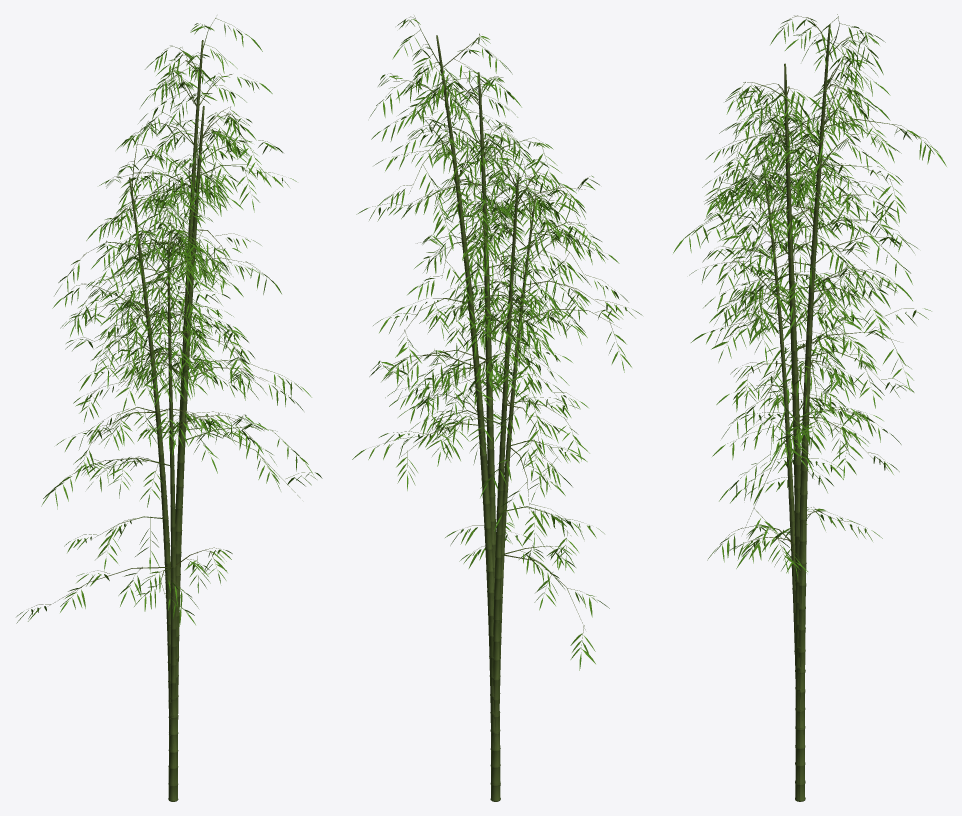
Rendered from bamboo.glb.
3 views of the same model, side by side, from view 1: azimuth 30°, elevation 25°; view 2: azimuth 150°, elevation 25°; view 3: azimuth 270°, elevation 25° (orthographic). The views are drawn at different scales.
Parts seen in each view (by area): view 1: Leaves_1, Leaves_3, Leaves_0, Leaves_2, Stalk_0, Stalk_1, Stalk_3, Stalk_2; view 2: Leaves_1, Leaves_3, Leaves_2, Leaves_0, Stalk_2, Stalk_1, Stalk_0, Stalk_3; view 3: Leaves_1, Leaves_0, Leaves_2, Leaves_3, Stalk_0, Stalk_2, Stalk_3, Stalk_1.
Part boxes in pixels (x1=…): Leaves_1: x1=52, y1=134, x2=322, y2=572; Leaves_3: x1=16, y1=199, x2=263, y2=626; Leaves_0: x1=75, y1=110, x2=313, y2=474; Leaves_2: x1=99, y1=23, x2=311, y2=401; Stalk_0: x1=89, y1=106, x2=303, y2=801; Stalk_1: x1=68, y1=125, x2=311, y2=737; Stalk_3: x1=31, y1=195, x2=252, y2=716; Stalk_2: x1=113, y1=18, x2=298, y2=784; Leaves_1: x1=352, y1=145, x2=604, y2=570; Leaves_3: x1=412, y1=167, x2=642, y2=670; Leaves_2: x1=369, y1=19, x2=532, y2=453; Leaves_0: x1=356, y1=75, x2=588, y2=490; Stalk_2: x1=379, y1=15, x2=518, y2=784; Stalk_1: x1=383, y1=133, x2=589, y2=736; Stalk_0: x1=372, y1=70, x2=570, y2=801; Stalk_3: x1=426, y1=161, x2=622, y2=711; Leaves_1: x1=691, y1=86, x2=912, y2=562; Leaves_0: x1=705, y1=85, x2=913, y2=501; Leaves_2: x1=722, y1=18, x2=946, y2=456; Leaves_3: x1=673, y1=141, x2=912, y2=579; Stalk_0: x1=717, y1=63, x2=905, y2=801; Stalk_2: x1=741, y1=14, x2=932, y2=783; Stalk_3: x1=685, y1=131, x2=896, y2=678; Stalk_1: x1=716, y1=77, x2=899, y2=692.
Size of the model in its own units: 5.26 by 14 by 4.27.
2 materials, 2 textured.
